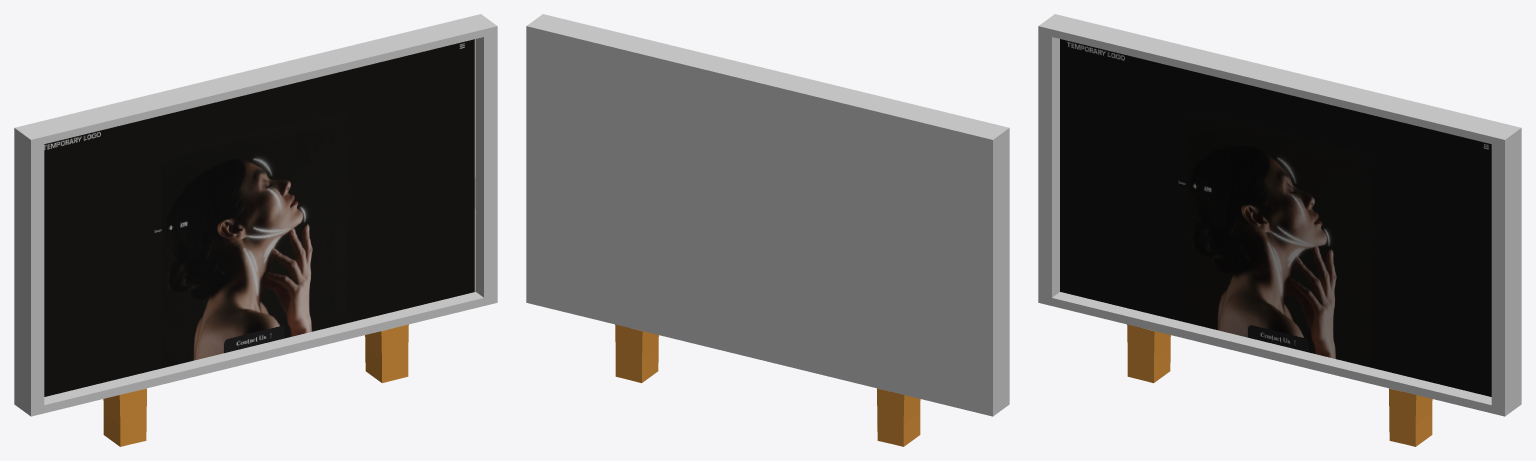
The model's file is frame-tommy2.glb.
3 renders of one model, left to right at view 1: azimuth 30°, elevation 25°; view 2: azimuth 150°, elevation 25°; view 3: azimuth 330°, elevation 25°, orthographic.
Visible parts, largest first — view 1: 2, Cube; view 2: Cube; view 3: 2, Cube.
Boxes of the visible parts, left/top/right/bottom form: 2: left=44, top=39, right=475, bottom=396; Cube: left=14, top=14, right=497, bottom=446; Cube: left=526, top=14, right=1009, bottom=446; 2: left=1060, top=39, right=1491, bottom=396; Cube: left=1038, top=14, right=1521, bottom=446.
Size of the model in its own units: 11.03 by 7.43 by 0.6791.
3 materials, 1 textured.
